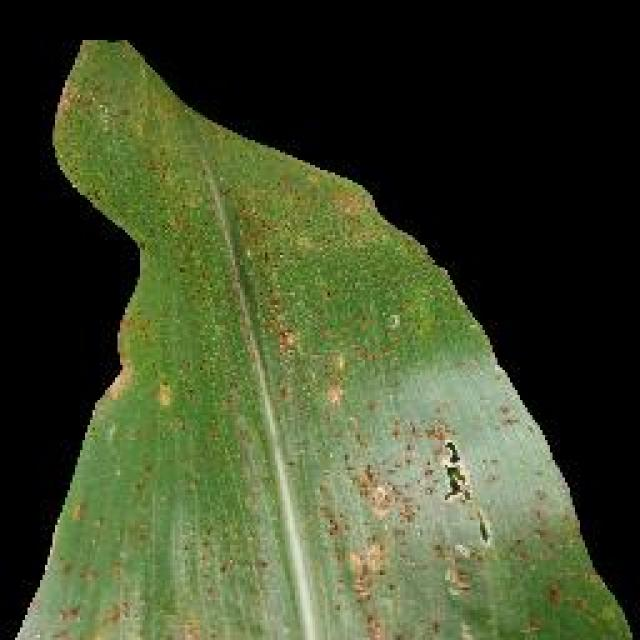Corn Common Rust: (115, 118, 540, 602)
